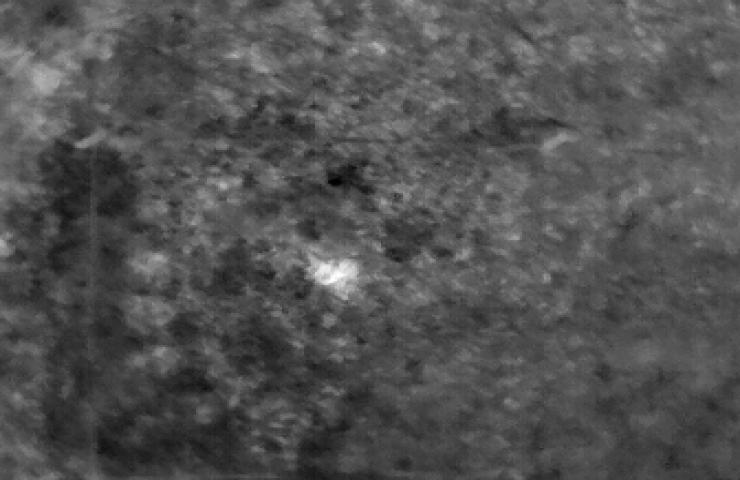landmines: (310, 259, 359, 295)
